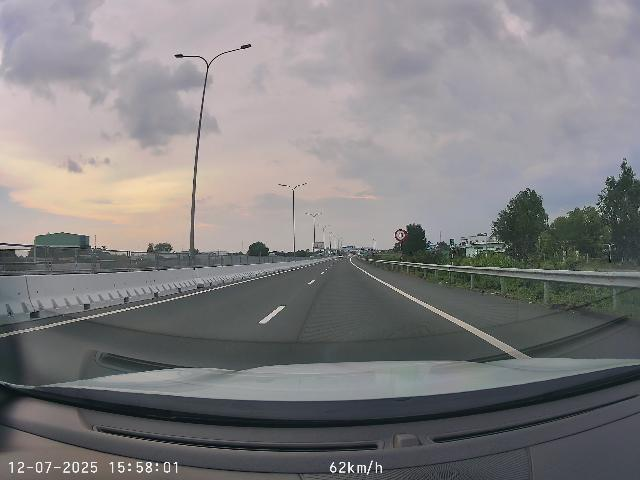127-toc-do-toi-da-60: (395, 229, 407, 241)
